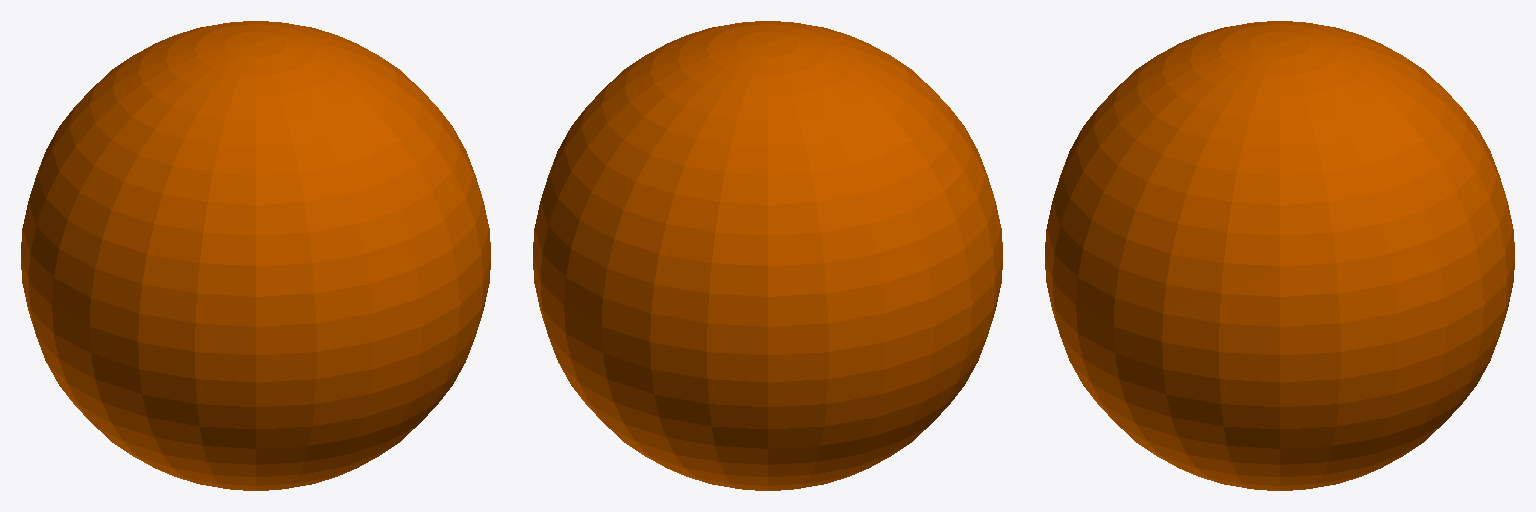
The model's file is spheres.obj.
3 renders of one model, left to right at view 1: azimuth 30°, elevation 25°; view 2: azimuth 150°, elevation 25°; view 3: azimuth 270°, elevation 25°, orthographic.
Visible parts, largest first — view 1: Sphere; view 2: Sphere; view 3: Sphere.
Part boxes in pixels (x1,y1,x2,y2): Sphere: (21, 21, 490, 490); Sphere: (533, 21, 1002, 490); Sphere: (1045, 21, 1514, 490).
Bounding box in the file's own units: 1 × 1 × 1.